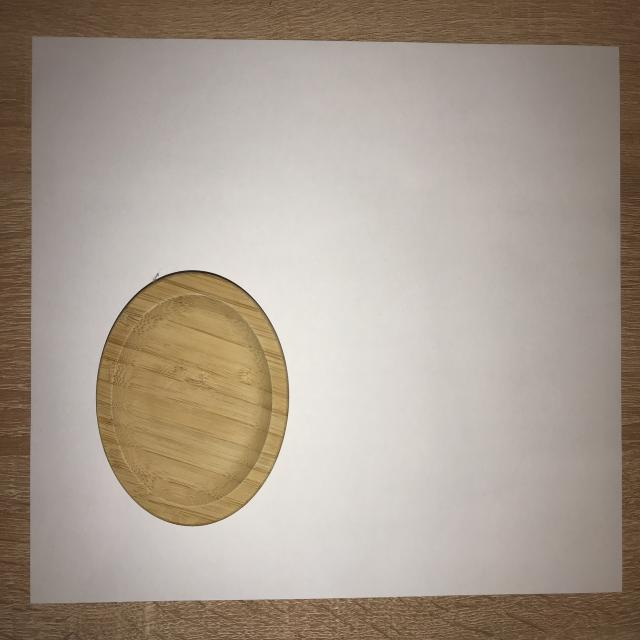cup_holder: (88, 265, 295, 536)
